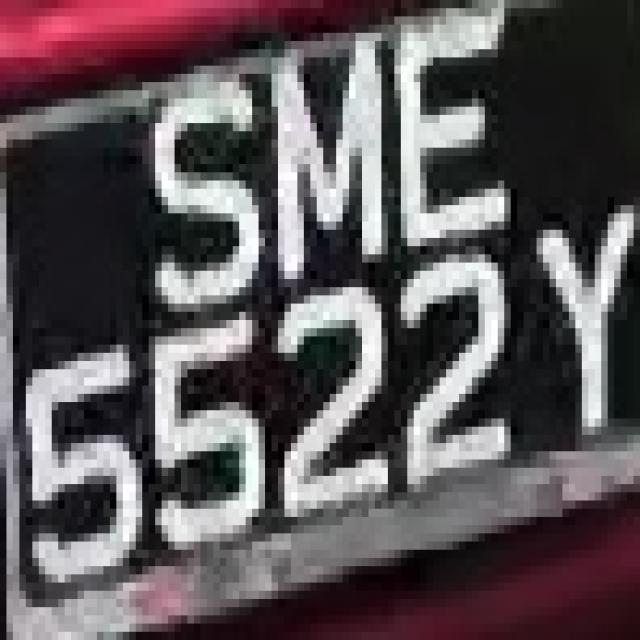2: (265, 287, 407, 542), (388, 238, 524, 500)
5: (19, 336, 149, 599), (136, 304, 265, 558)
E: (381, 0, 511, 263)
M: (258, 41, 401, 295)
S: (129, 57, 259, 312)
Y: (498, 172, 634, 460)
